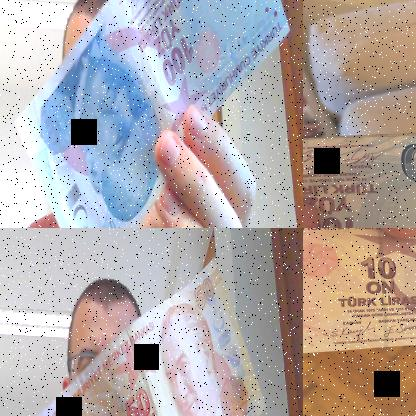5 TL: (15, 0, 293, 227)
